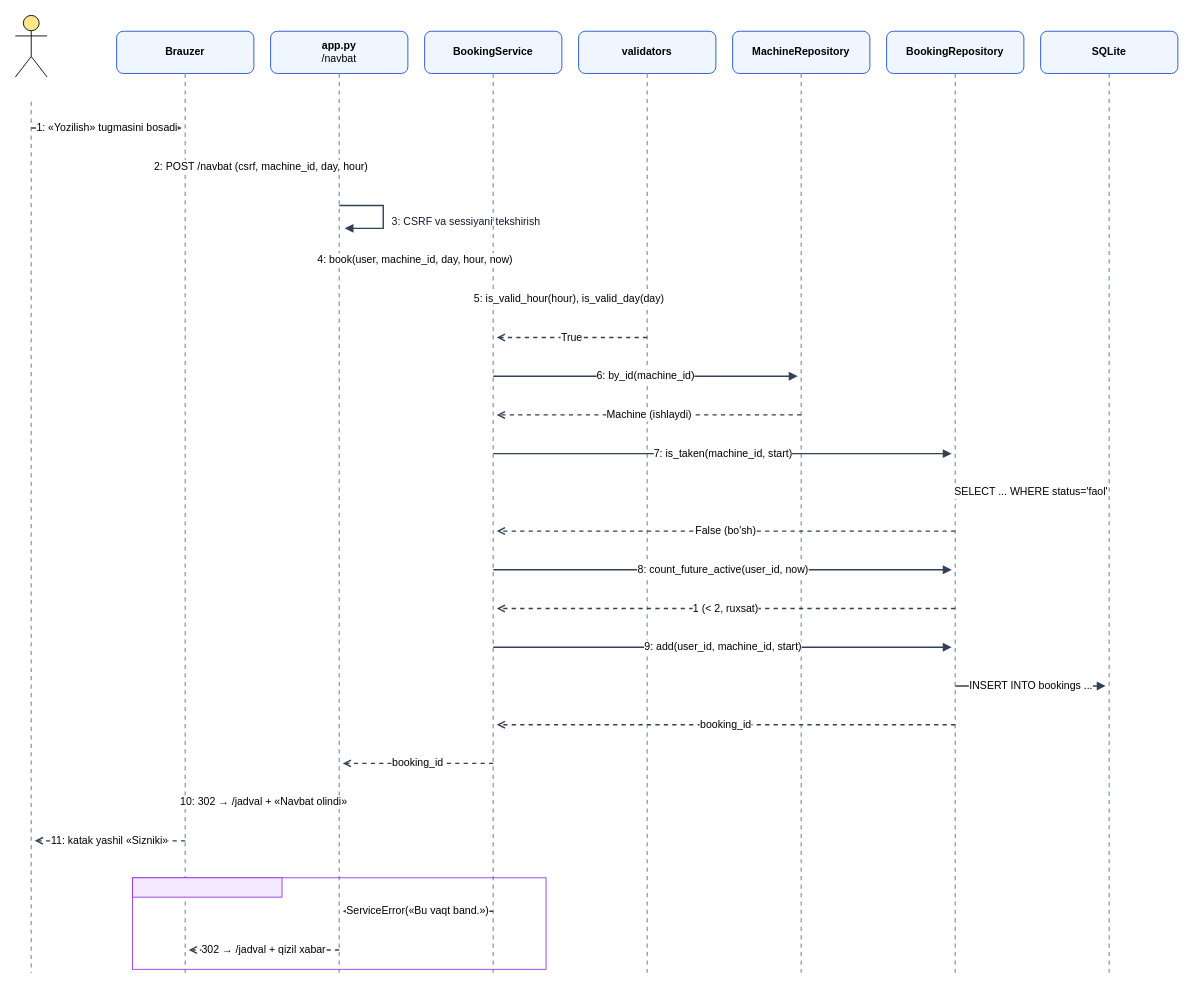
Image size: 1193x990. Some labels were removed from this diagram. The shapes that lost their labels are listed below. From the top down, each one's centre as x and y in pixels, then its label:
the point at 31,46: Talaba
the point at 207,887: alt [vaqt band / limit]
